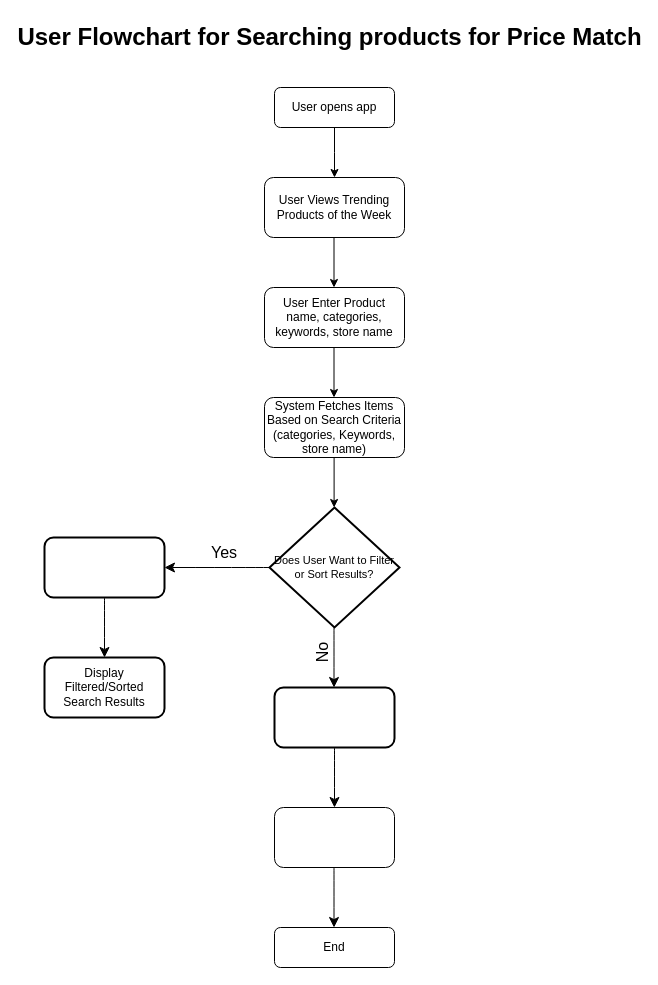
Image size: 658x985. Some labels were removed from this diagram. The box of each missing label's shape, as (x1, y1, x2, y2) in pixels:
Display Filter/Sort Options (Low to High, High to Low, A-Z, Date Added): (43, 536, 165, 598)
Display Search Results: (273, 686, 395, 748)
User Views Entire Flyer of a Particular Store (Optional): (274, 806, 394, 868)
